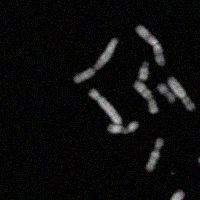chromosome: (74, 37, 118, 80), (136, 24, 165, 65), (89, 89, 121, 124), (168, 76, 195, 110), (133, 80, 157, 113), (146, 136, 163, 171), (106, 120, 137, 133), (156, 83, 175, 103), (137, 61, 151, 81), (164, 189, 184, 200), (199, 157, 200, 185), (194, 198, 200, 200)
